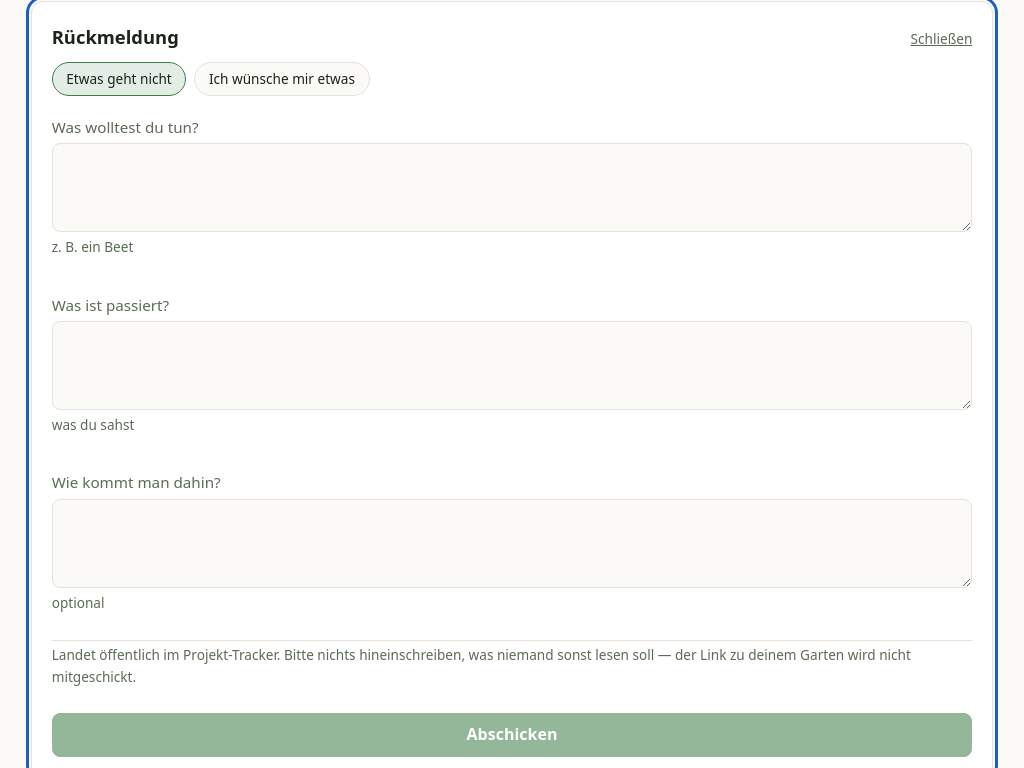
Scenario: FeedbackBox › will not send until the required questions are answered
(page scrolled)
Expected: the button "Abschicken" is disabled, [52, 713, 972, 757]
Step 1. Type "Ein Beet einzeichnen" into the text box labelled "Was wolltest du tun? z. B. ein Beet" → [512, 188], box [52, 143, 972, 232]
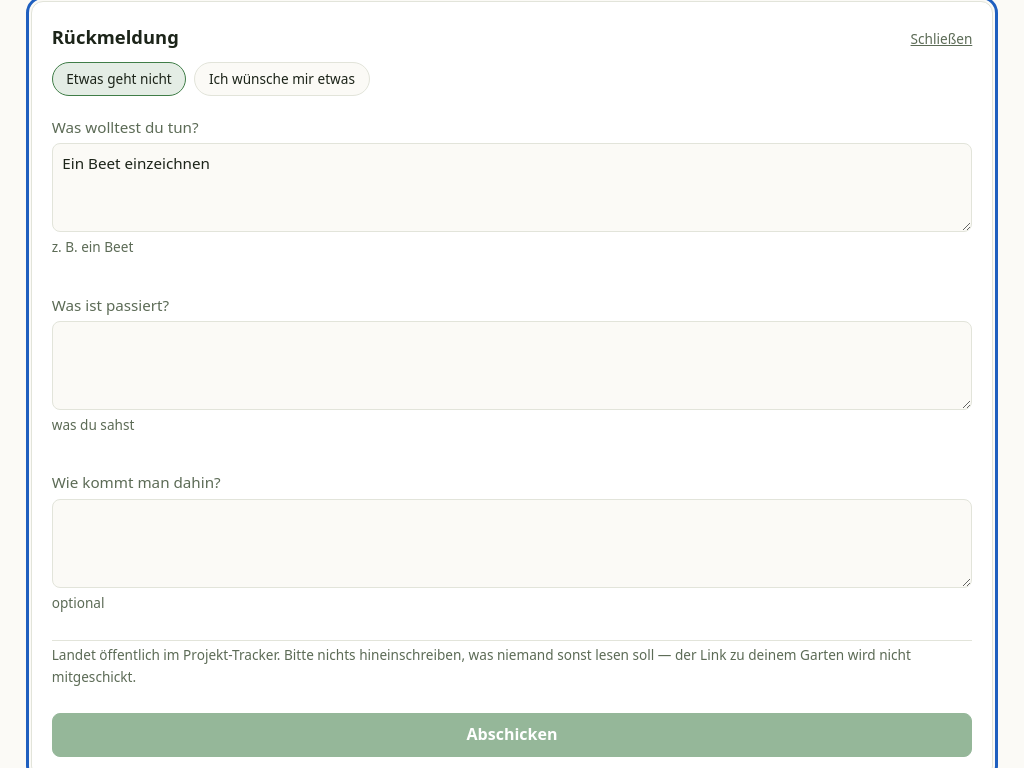
Expected: the button "Abschicken" is disabled, [52, 713, 972, 757]
Step 2. Type "Nichts" into the text box labelled "Was ist passiert? was du sahst" → [512, 366], box [52, 321, 972, 410]
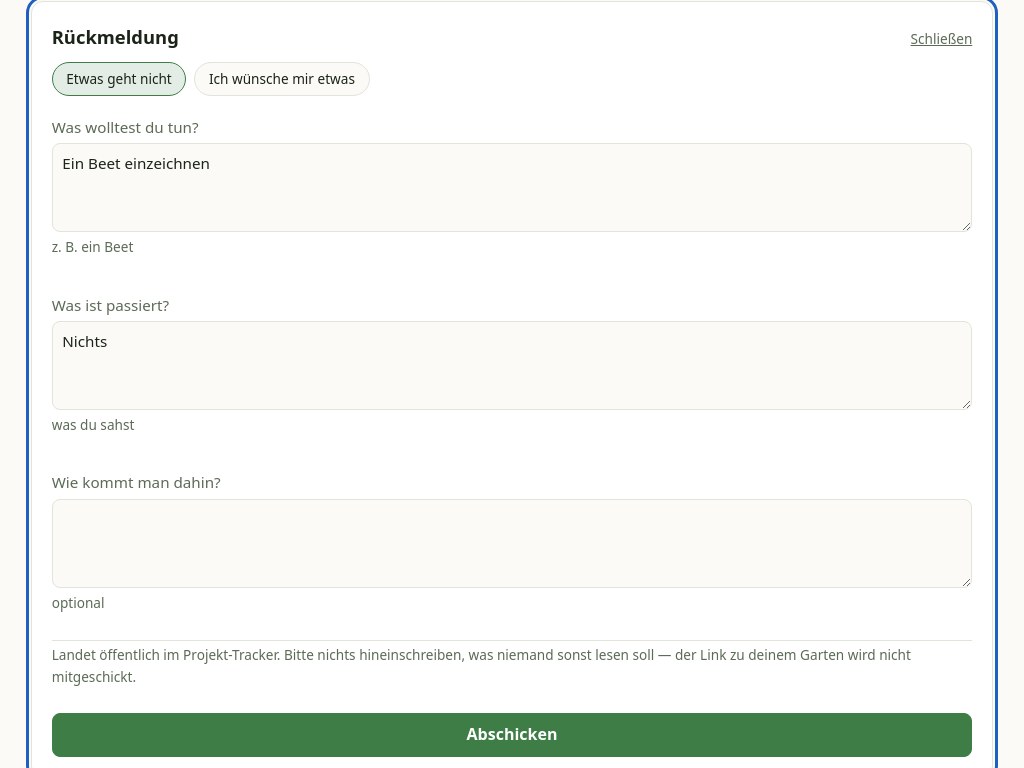
Expected: the button "Abschicken" is enabled, [52, 713, 972, 757]
